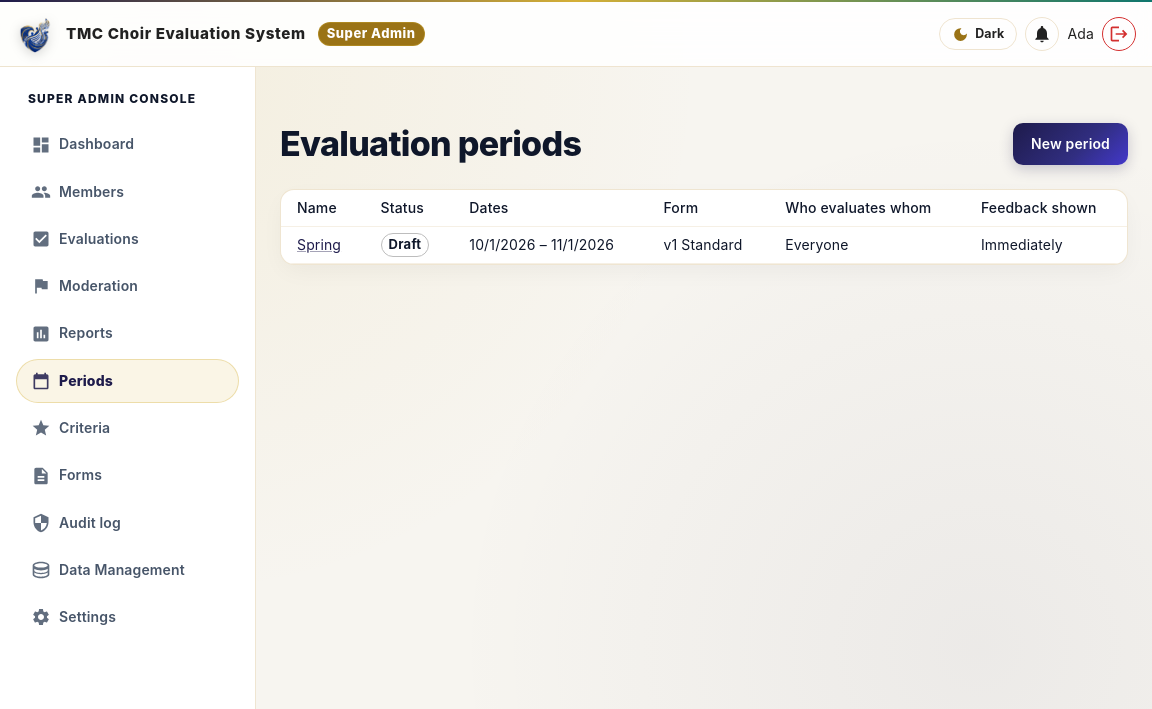
Test case: Admin periods › lists periods and shows server conflicts when opening
The width and height of the screenshot is (1152, 709).
Click the link "Spring".
click(319, 244)  # box [297,236,341,253]
(page scrolled)
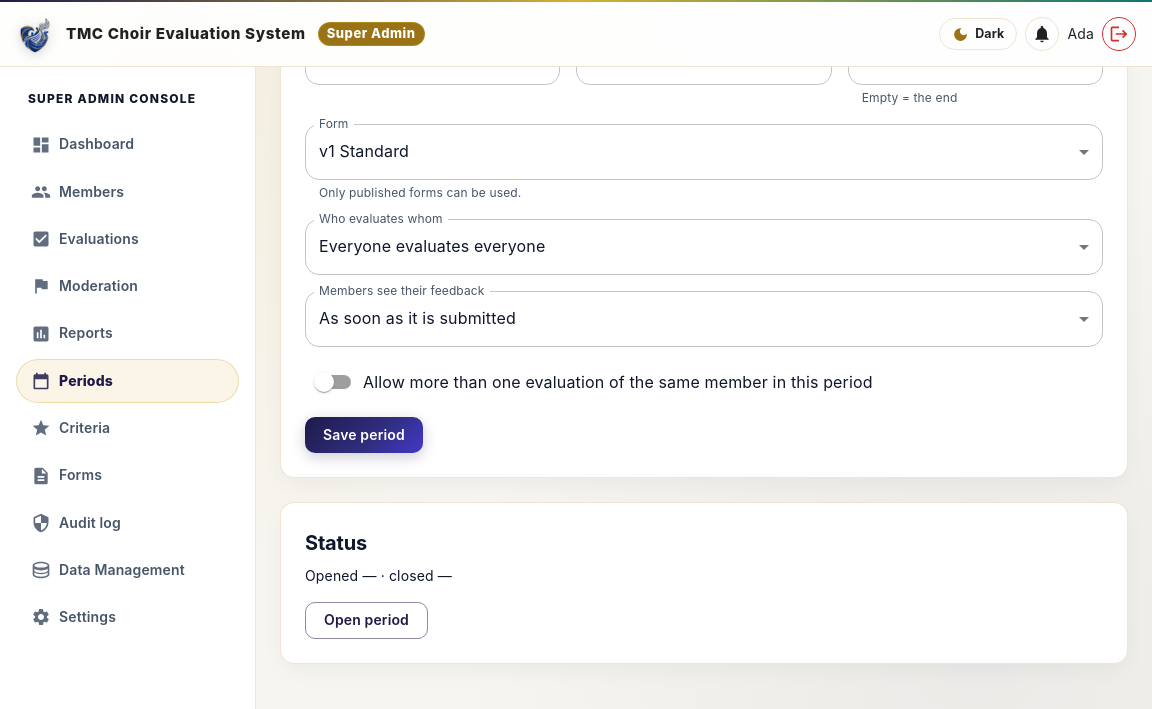
Click the button "Open period".
click(366, 621)  # box [305,602,428,639]
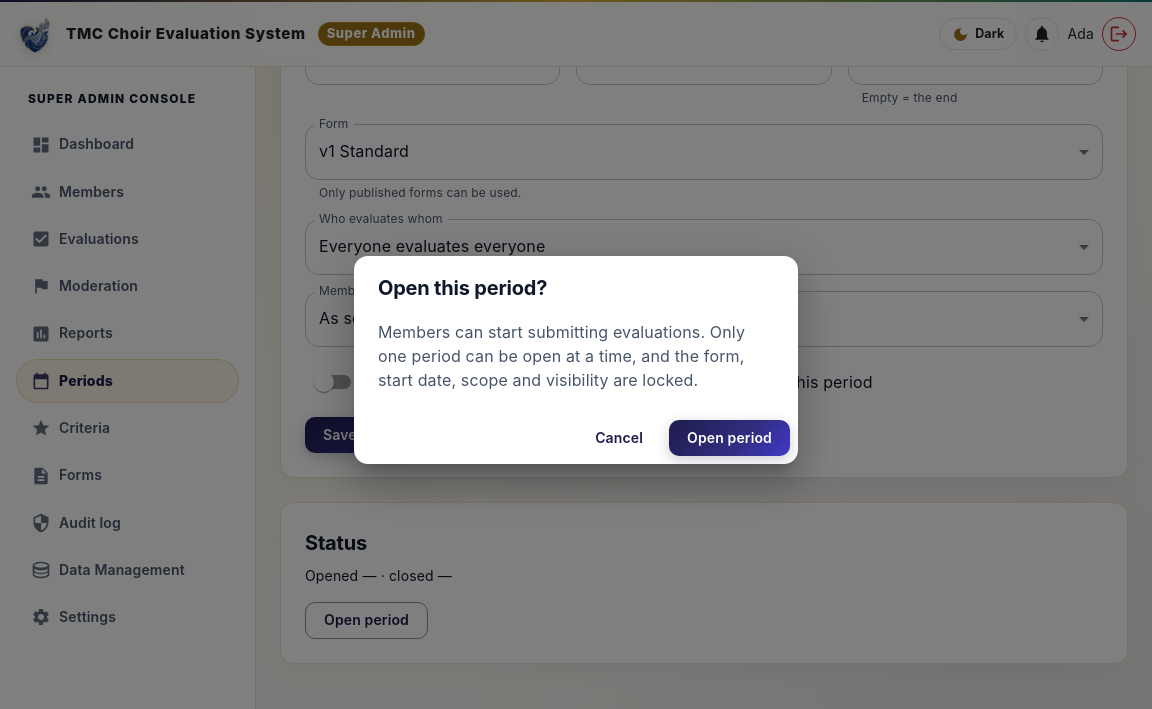
Click the button "Open period".
click(730, 438)  # box [669,420,790,456]
(page scrolled)
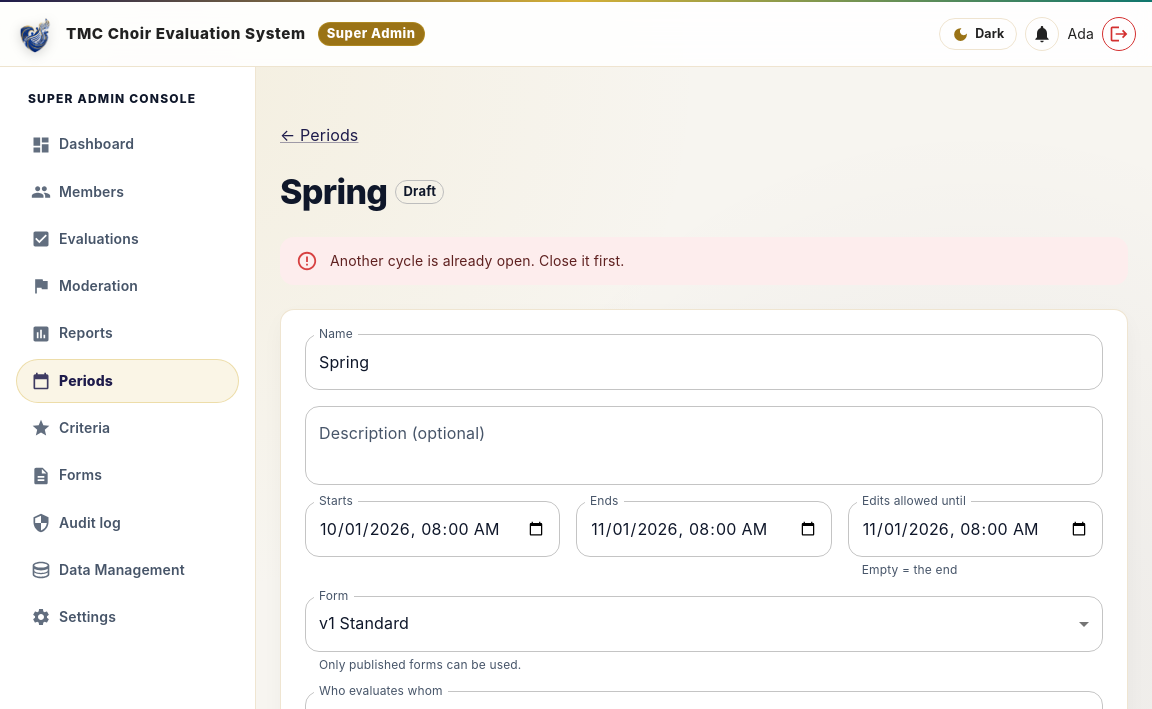
Expected: the text "Another cycle is already open. Close it first." is shown, [330,252,624,269]
